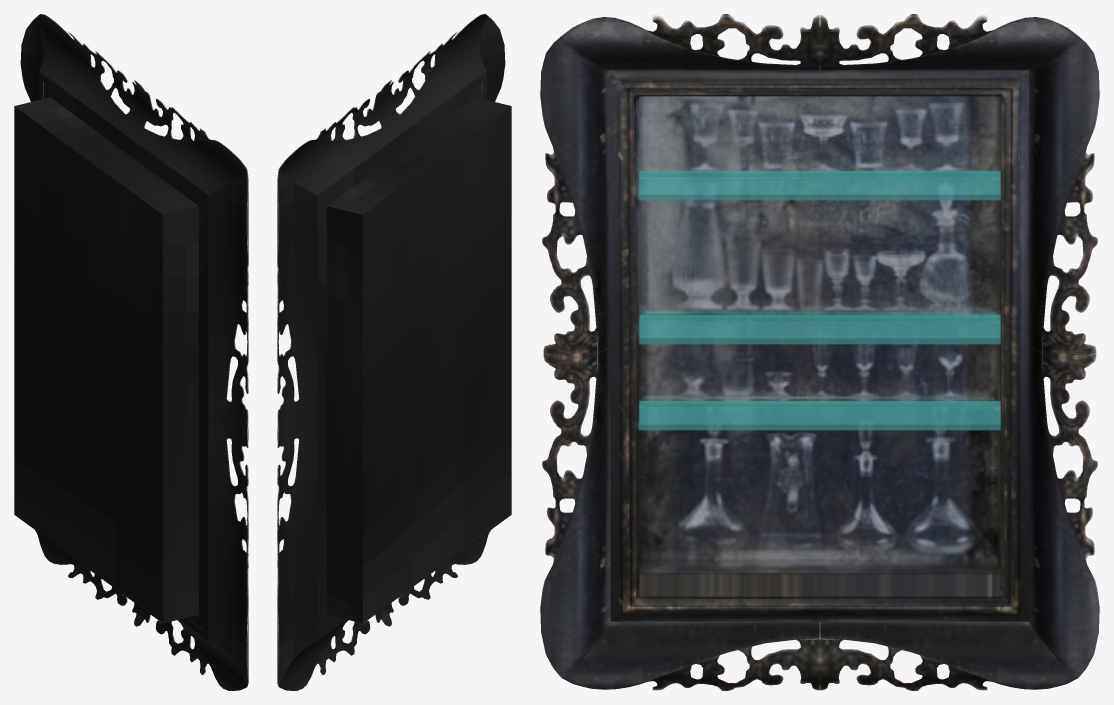
Rendered from shelf.fbx.
3 renders of one model, left to right at view 1: azimuth 30°, elevation 25°; view 2: azimuth 150°, elevation 25°; view 3: azimuth 270°, elevation 25°, orthographic. The views are drawn at different scales.
Visible parts, largest first — view 1: Component_10_1, Component_4_1, Component_6_2, Component_6_4, Component_6_1, Component_5_1, Component_2_1, Component_3_1, Component_9_4, Component_9_3, Component_8_1, Component_8_2 (+3 smaller); view 2: Component_10_1, Component_4_1, Component_6_1, Component_6_3, Component_6_2, Component_5_1, Component_2_1, Component_3_1, Component_9_2, Component_9_1, Component_8_2, Component_8_1 (+3 smaller); view 3: Component_10_1, Component_6_3, Component_6_4, Component_2_1, Component_5_1, Component_6_1, Component_6_2, Component_4_1, Component_3_1, Component_11_1, Component_11_2, Component_11_3 (+8 smaller).
Part boxes in pixels (x1=…): Component_10_1: x1=14, y1=106, x2=163, y2=623; Component_4_1: x1=15, y1=97, x2=198, y2=623; Component_6_2: x1=124, y1=123, x2=248, y2=419; Component_6_4: x1=177, y1=418, x2=248, y2=690; Component_6_1: x1=20, y1=14, x2=133, y2=133; Component_5_1: x1=39, y1=71, x2=208, y2=640; Component_2_1: x1=44, y1=82, x2=204, y2=629; Component_3_1: x1=47, y1=91, x2=201, y2=620; Component_9_4: x1=224, y1=262, x2=248, y2=434; Component_9_3: x1=224, y1=419, x2=248, y2=600; Component_8_1: x1=134, y1=81, x2=210, y2=140; Component_8_2: x1=68, y1=31, x2=142, y2=122; Component_10_1: x1=362, y1=106, x2=511, y2=623; Component_4_1: x1=327, y1=97, x2=510, y2=623; Component_6_1: x1=277, y1=123, x2=401, y2=419; Component_6_3: x1=277, y1=418, x2=348, y2=690; Component_6_2: x1=392, y1=14, x2=505, y2=133; Component_5_1: x1=317, y1=71, x2=486, y2=640; Component_2_1: x1=321, y1=82, x2=481, y2=629; Component_3_1: x1=324, y1=91, x2=478, y2=620; Component_9_2: x1=277, y1=262, x2=301, y2=434; Component_9_1: x1=277, y1=419, x2=301, y2=600; Component_8_2: x1=315, y1=81, x2=391, y2=140; Component_8_1: x1=383, y1=31, x2=457, y2=122; Component_10_1: x1=639, y1=96, x2=1000, y2=574; Component_6_3: x1=820, y1=346, x2=1099, y2=689; Component_6_4: x1=540, y1=346, x2=819, y2=689; Component_2_1: x1=620, y1=79, x2=1019, y2=615; Component_5_1: x1=610, y1=70, x2=1029, y2=621; Component_6_1: x1=820, y1=17, x2=1099, y2=352; Component_6_2: x1=540, y1=17, x2=819, y2=352; Component_4_1: x1=636, y1=95, x2=1003, y2=598; Component_3_1: x1=629, y1=89, x2=1010, y2=606; Component_11_1: x1=639, y1=401, x2=1000, y2=430; Component_11_2: x1=639, y1=315, x2=1000, y2=344; Component_11_3: x1=639, y1=171, x2=1000, y2=200.
Bounding box in the file's own units: 12.34 × 118 × 88.2.
